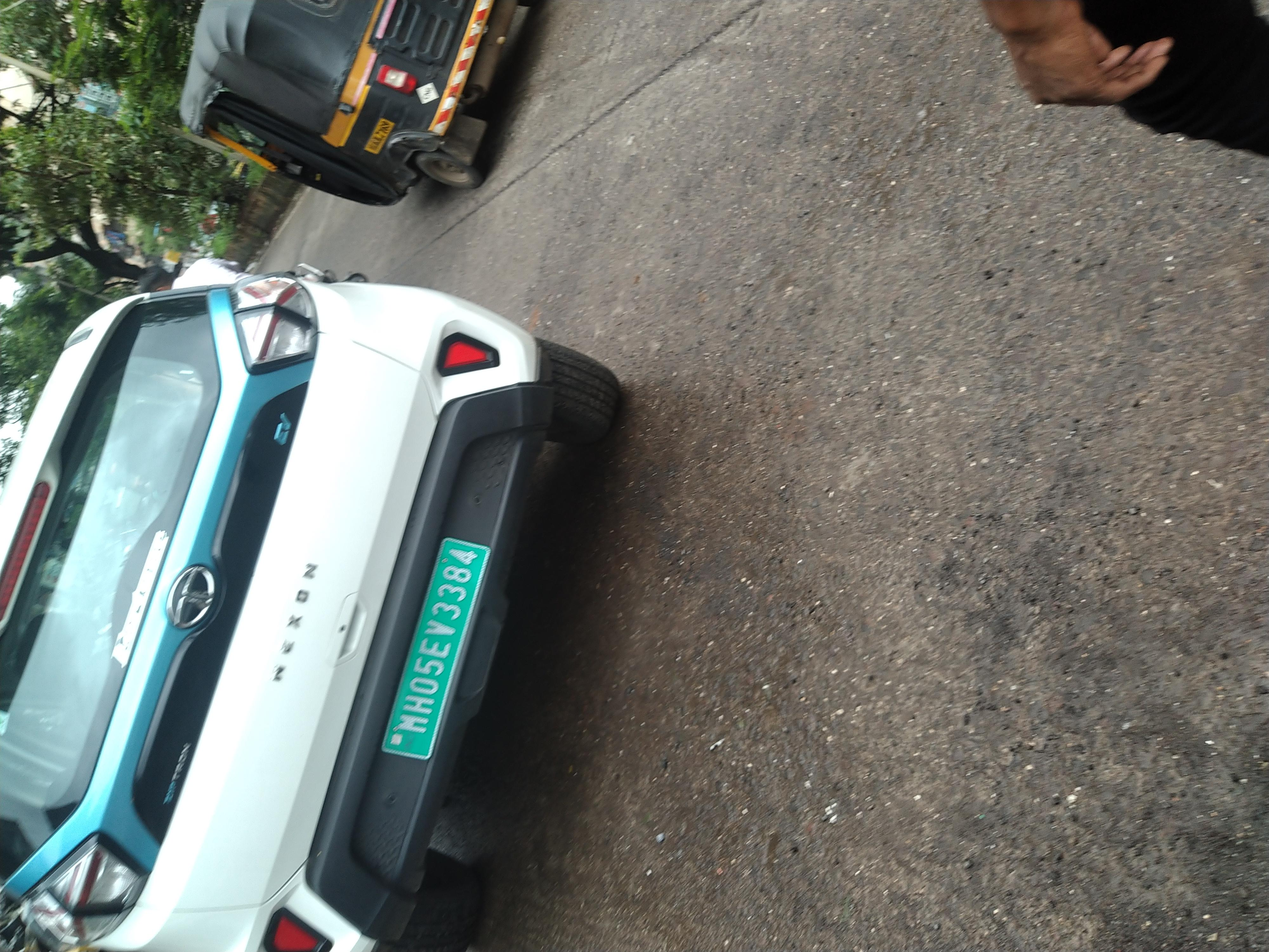green license plate: (249, 282, 556, 369)
